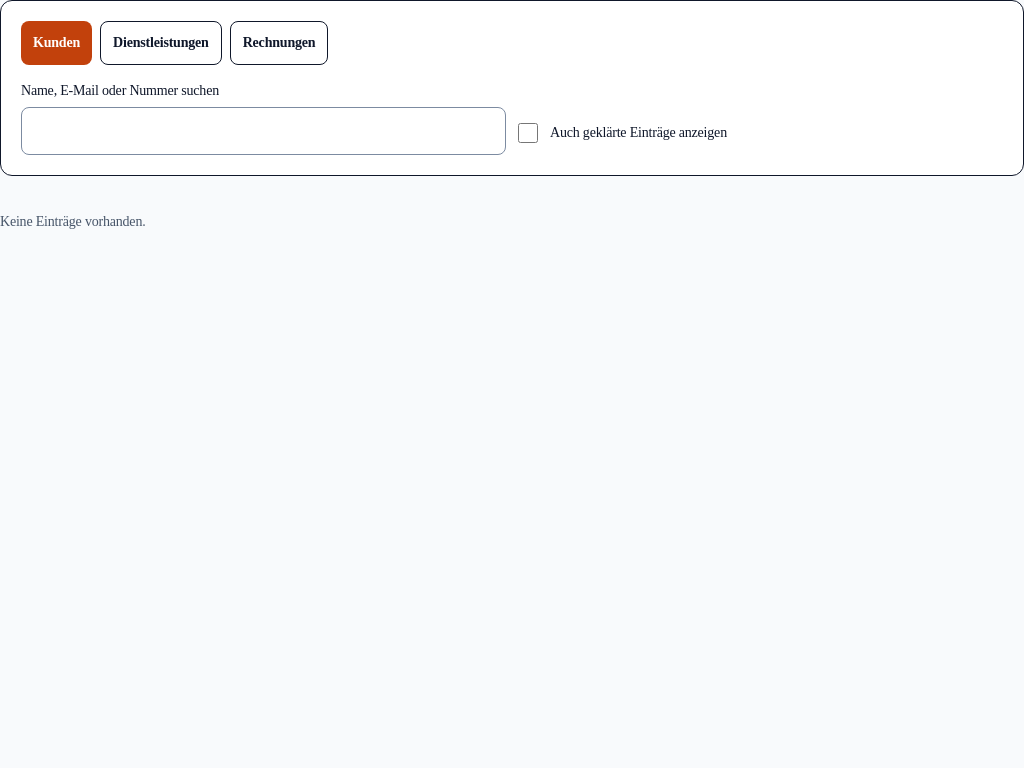
Scenario: distinguishes pending cancellation links from confirmed replacements in de
The width and height of the screenshot is (1024, 768).
Click the button "Rechnungen" at (279, 43), box [230,21,328,65]
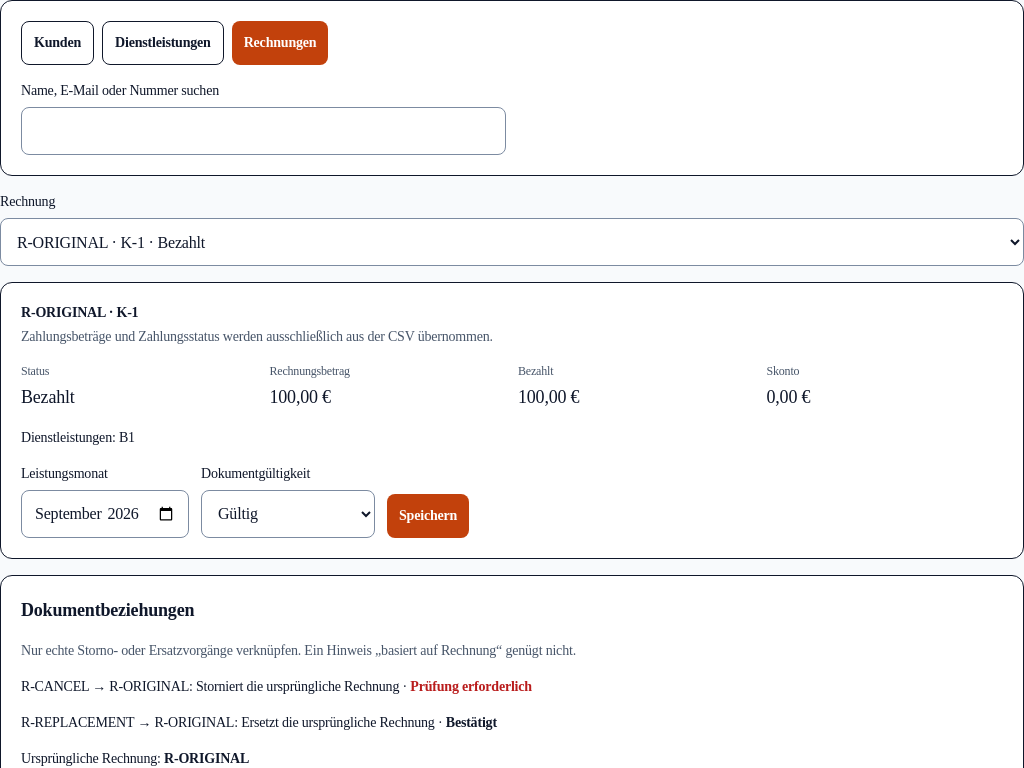
Check: the heading "Dokumentbeziehungen" is shown, box [21,600,194,620]
Check: the text "Prüfung erforderlich" is shown, box [410,679,532,694]
Check: the text "Bestätigt" is shown, box [446,715,497,730]
